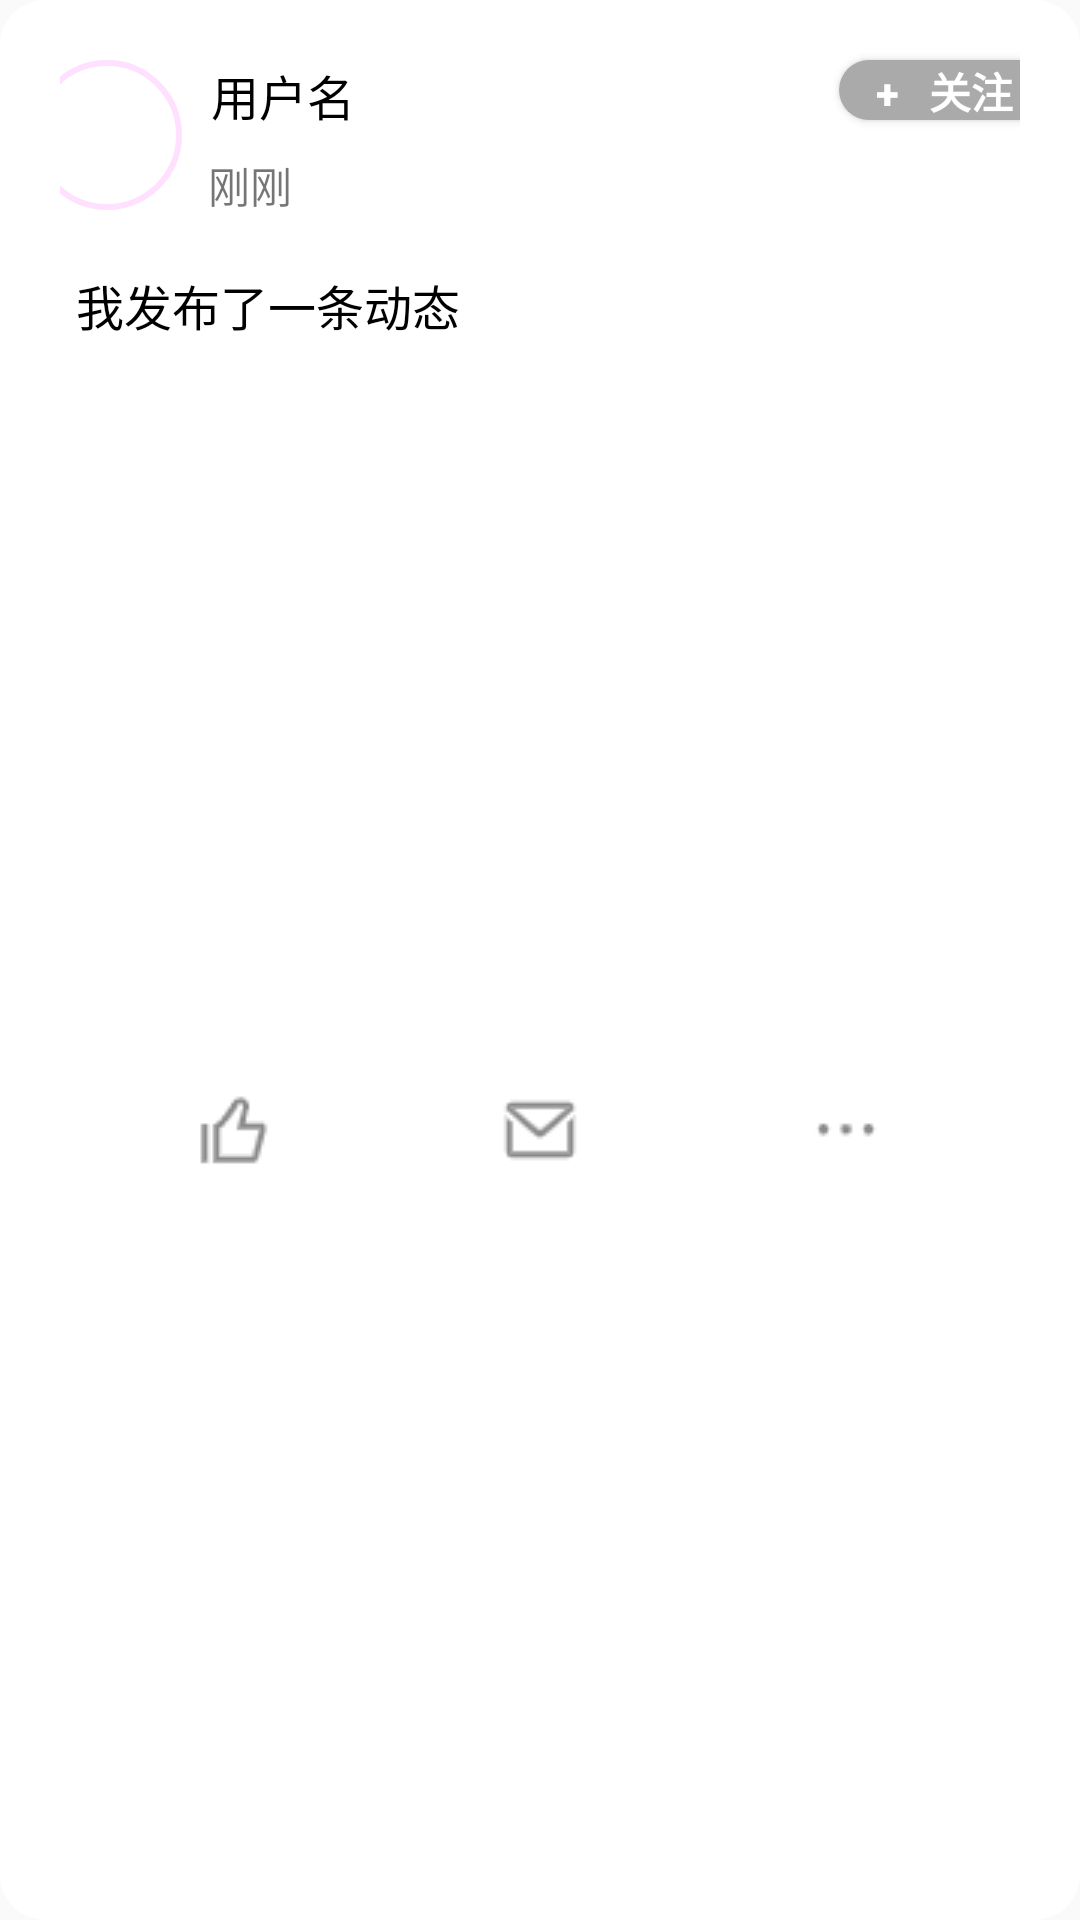

Icons on this 1080px x 1920px Android screen, each with its box as (x1, y1, x2, y2):
ellipsis: (818, 1123, 874, 1136)
good: (200, 1097, 267, 1164)
message: (505, 1101, 575, 1159)
